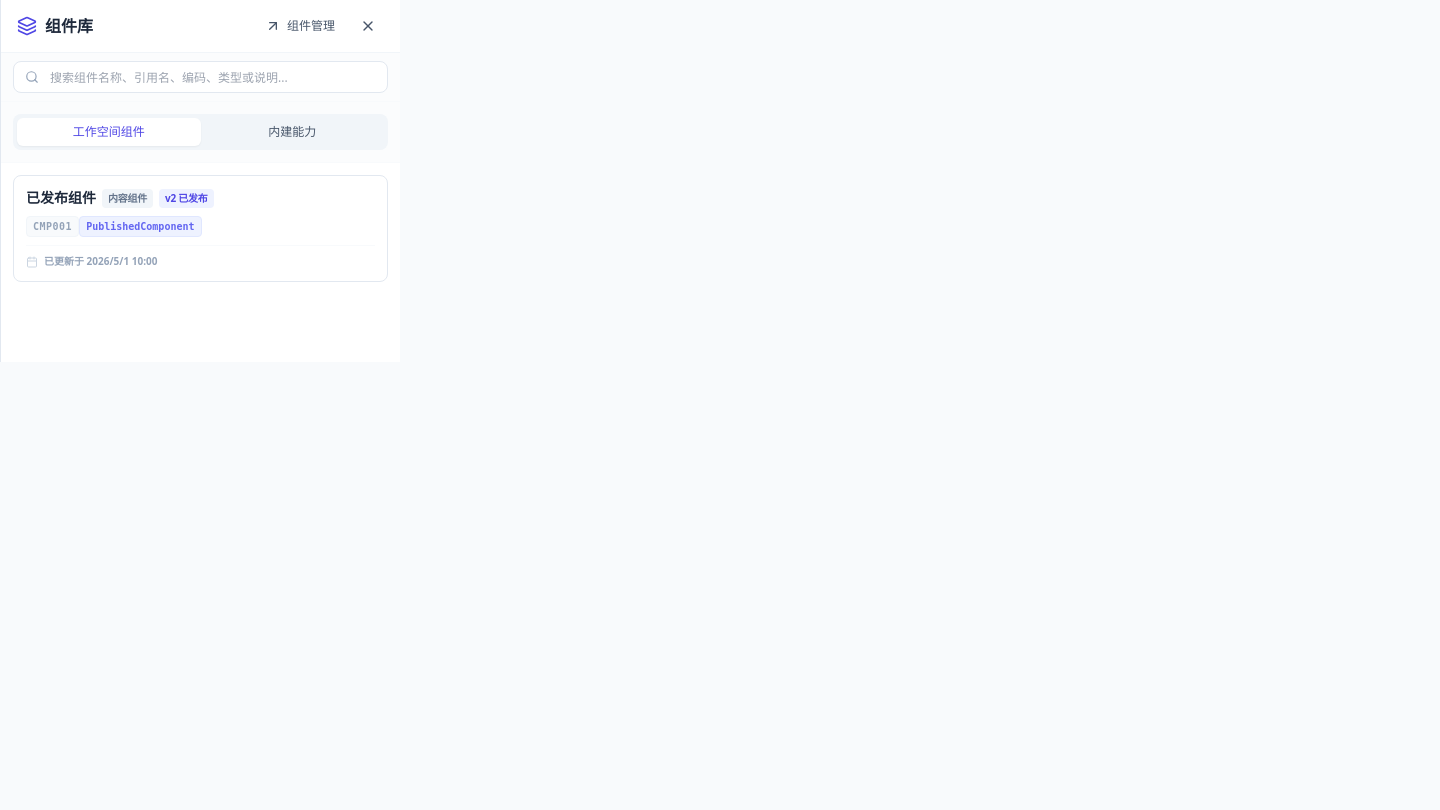
ComponentManagerPanel › 选择 Runtime Kit 可预览能力后应打开同一个预览工作台
Expected: the text "内建能力" is shown, [268, 124, 316, 140]
Click the radio button "内建能力" at point(292, 132), box [200, 118, 384, 146]
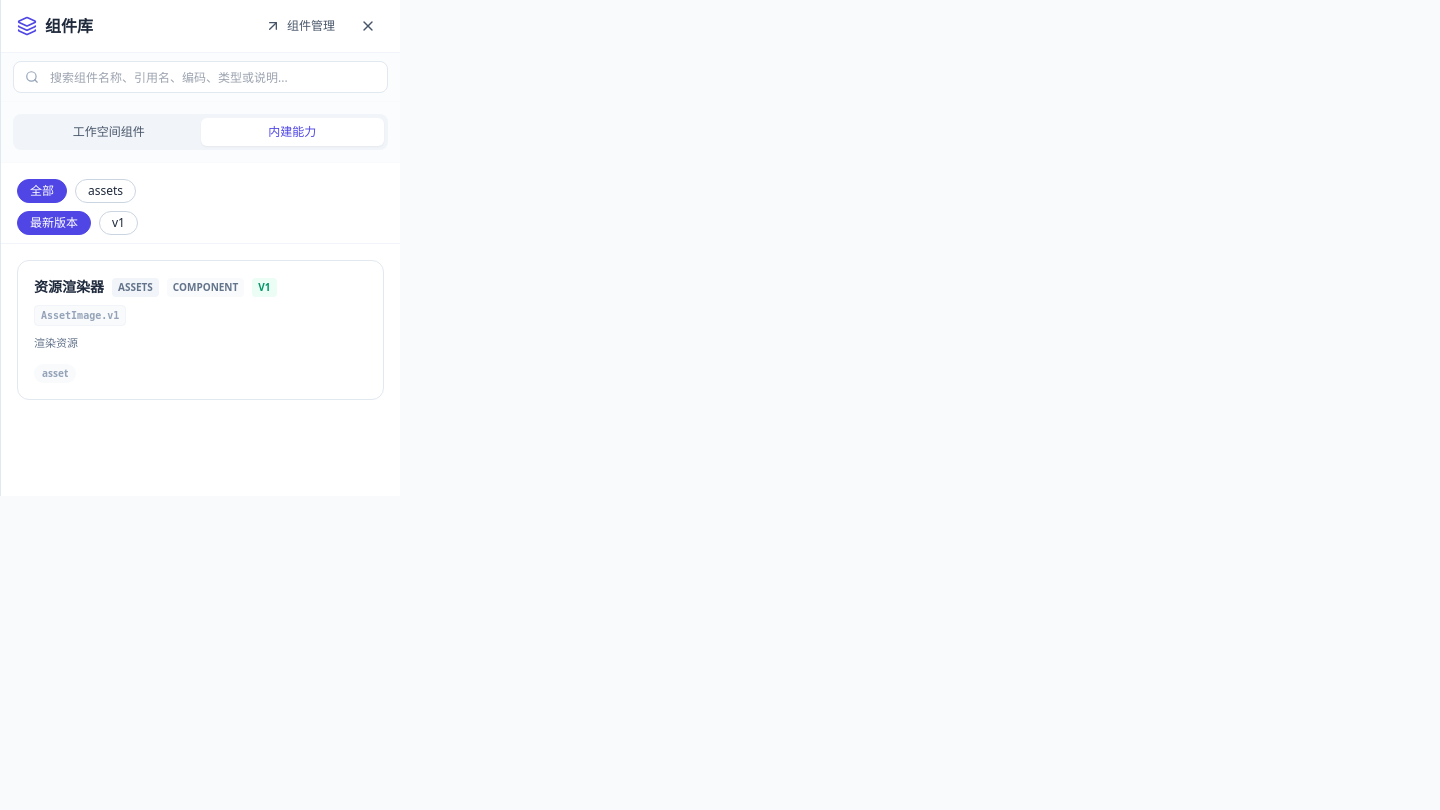
Expected: the heading "资源渲染器" is shown, [34, 277, 104, 297]
Click the text "资源渲染器" at point(200, 330), box [17, 260, 384, 400]
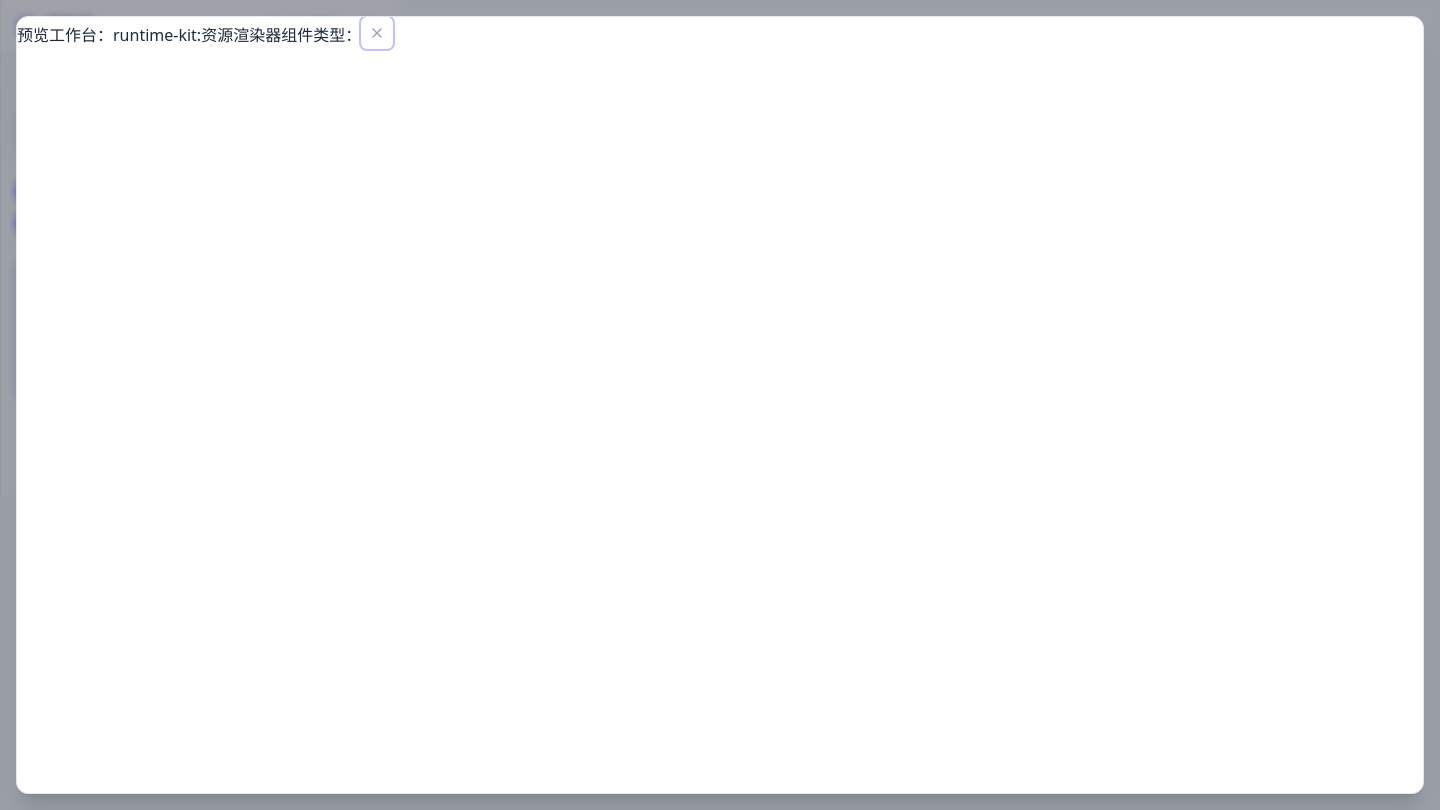
Expected: the element with test id "preview-workbench" shows "预览工作台：runtime-kit:资源渲染器", [17, 24, 281, 46]
